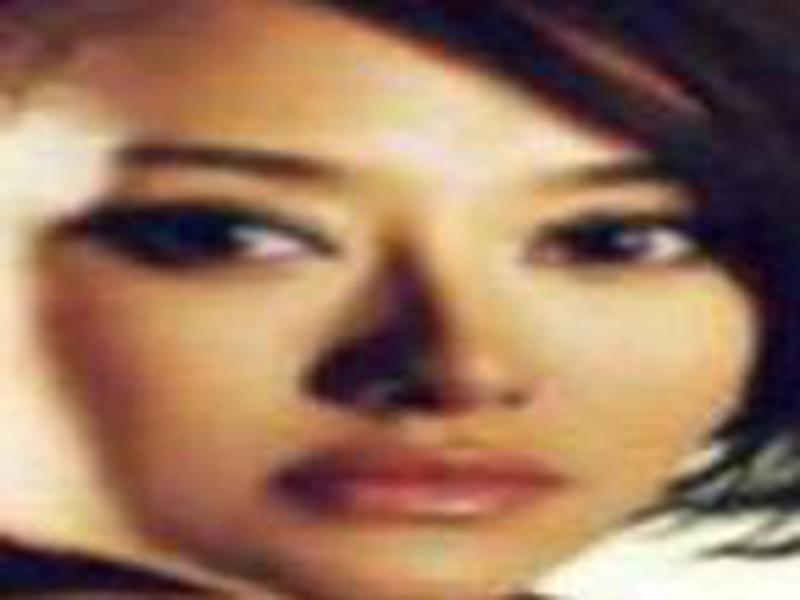without_mask: (17, 21, 755, 600)
